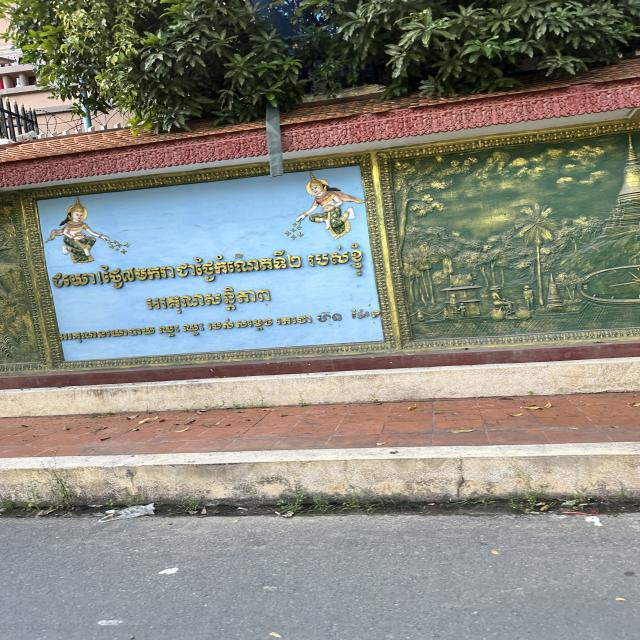1: (47, 240, 365, 296)
2: (56, 303, 381, 349)
Yolov11_80vkh: (138, 283, 273, 316)
